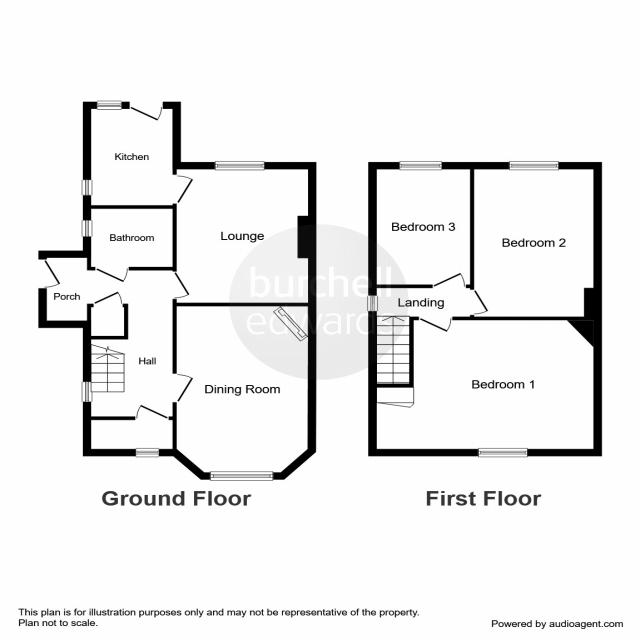DOOR: (171, 373, 195, 404), (129, 101, 164, 122), (38, 259, 62, 289), (172, 174, 194, 205), (94, 266, 129, 283), (135, 404, 170, 421), (432, 272, 467, 289), (418, 316, 453, 333), (469, 289, 490, 316), (93, 290, 123, 308), (172, 271, 191, 299)
ROOM: (368, 316, 603, 458), (172, 302, 317, 481), (470, 160, 603, 321), (172, 161, 317, 306), (368, 161, 475, 289), (81, 100, 194, 209)
WINDOW: (210, 471, 274, 481), (508, 160, 559, 171), (215, 160, 266, 171), (478, 447, 528, 458), (399, 160, 443, 171), (81, 381, 93, 403), (96, 100, 122, 110), (135, 448, 160, 457), (81, 220, 93, 237), (81, 180, 93, 196), (367, 295, 379, 311)
